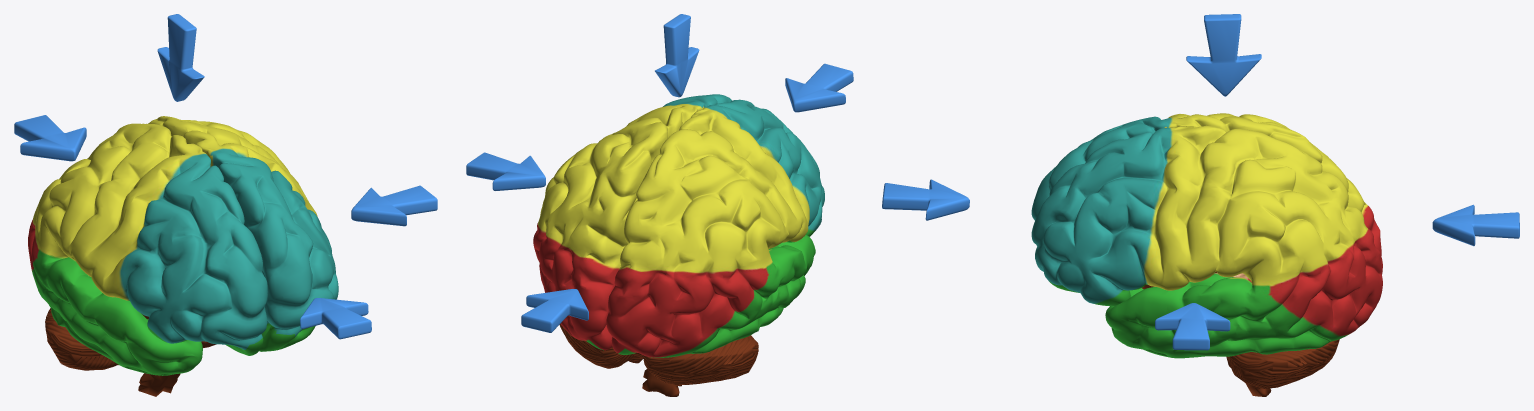
File: Brain.glb
3 views of the same model, side by side, from view 1: azimuth 30°, elevation 25°; view 2: azimuth 150°, elevation 25°; view 3: azimuth 270°, elevation 25° (orthographic). The views are drawn at different scales.
Parts seen in each view (by area): view 1: Brain_Part_06, Brain_Part_04, Arrow_Material.001_0.003, Arrow_Material.001_0.001, Arrow_Material.001_0.002, Arrow, Brain_Part_02, Brain_Part_05; view 2: Brain_Part_06, Brain_Part_04, Brain_Part_02, Arrow, Arrow_Material.001_0.003, Arrow_Material.001_0.001, Arrow_Material.001_0.002, Brain_Part_05; view 3: Brain_Part_04, Brain_Part_06, Arrow_Material.001_0.003, Brain_Part_02, Arrow, Arrow_Material.001_0.002, Arrow_Material.001_0.001.
Part boxes in pixels (<box>): Brain_Part_06: <box>28,123,267,375</box>; Brain_Part_04: <box>148,116,338,351</box>; Arrow_Material.001_0.003: <box>157,14,204,101</box>; Arrow_Material.001_0.001: <box>351,185,437,226</box>; Arrow_Material.001_0.002: <box>14,115,86,161</box>; Arrow: <box>300,298,371,339</box>; Brain_Part_02: <box>45,308,118,370</box>; Brain_Part_05: <box>138,314,180,396</box>; Brain_Part_06: <box>606,99,824,357</box>; Brain_Part_04: <box>533,94,731,350</box>; Brain_Part_02: <box>559,324,758,384</box>; Arrow: <box>785,63,853,112</box>; Arrow_Material.001_0.003: <box>655,14,699,97</box>; Arrow_Material.001_0.001: <box>466,152,545,190</box>; Arrow_Material.001_0.002: <box>521,289,588,332</box>; Brain_Part_05: <box>642,369,681,396</box>; Brain_Part_04: <box>1031,125,1382,358</box>; Brain_Part_06: <box>1031,113,1382,274</box>; Arrow_Material.001_0.003: <box>1186,14,1261,96</box>; Brain_Part_02: <box>1228,339,1339,388</box>; Arrow: <box>882,179,969,220</box>; Arrow_Material.001_0.002: <box>1432,204,1519,246</box>; Arrow_Material.001_0.001: <box>1155,303,1230,350</box>.
Bounding box in the file's own units: 1.52 × 1.56 × 2.39.
Materials: 5 (1 with a texture image).
